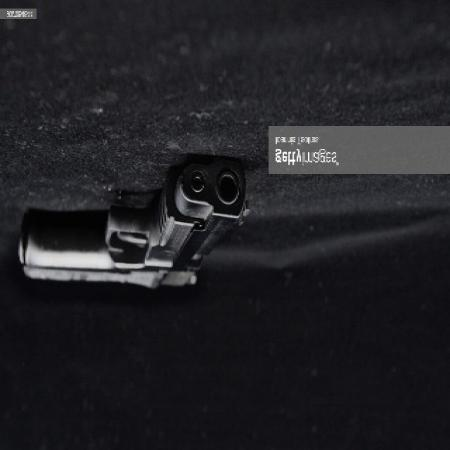Pistol: (12, 162, 248, 291)
